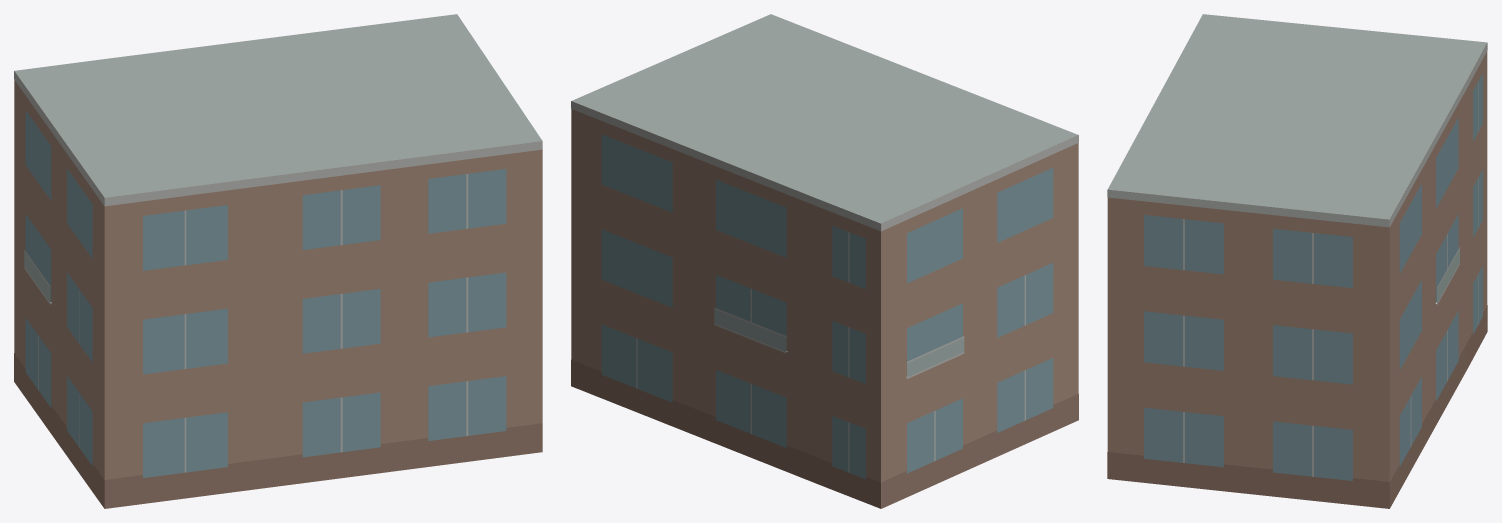
Rendered from survey-upis-32984507.glb.
3 views of the same model, side by side, from view 1: azimuth 30°, elevation 25°; view 2: azimuth 150°, elevation 25°; view 3: azimuth 270°, elevation 25° (orthographic). The views are drawn at different scales.
Visible parts, largest first — view 1: survey-upis-32984507.tmp; view 2: survey-upis-32984507.tmp; view 3: survey-upis-32984507.tmp.
Boxes of the visible parts, x1,y1,x2,y2 form: survey-upis-32984507.tmp: [14, 14, 542, 508]; survey-upis-32984507.tmp: [571, 14, 1078, 508]; survey-upis-32984507.tmp: [1107, 14, 1487, 508].
Bounding box in the file's own units: 13.73 × 9 × 10.73.
